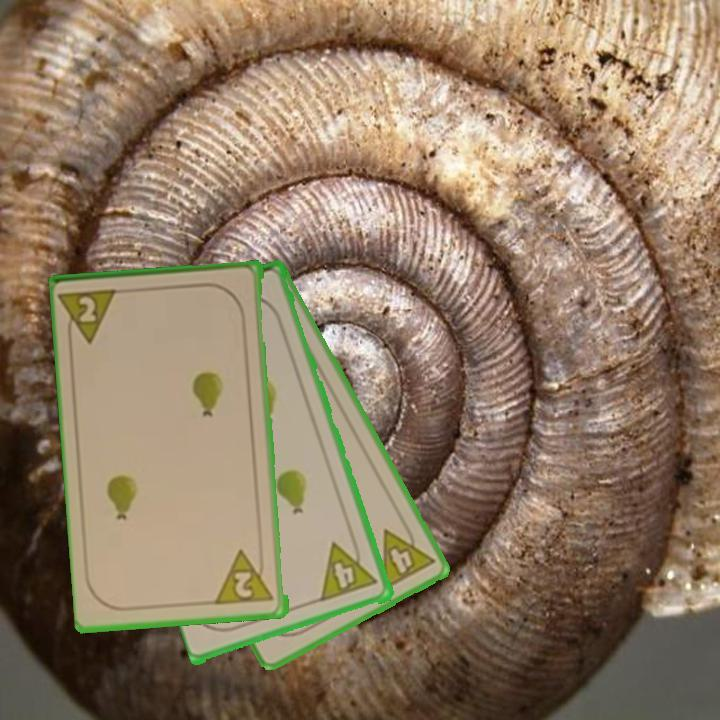2p: (59, 285, 124, 349), (214, 546, 278, 608)
4p: (378, 516, 438, 594), (317, 534, 381, 604)
